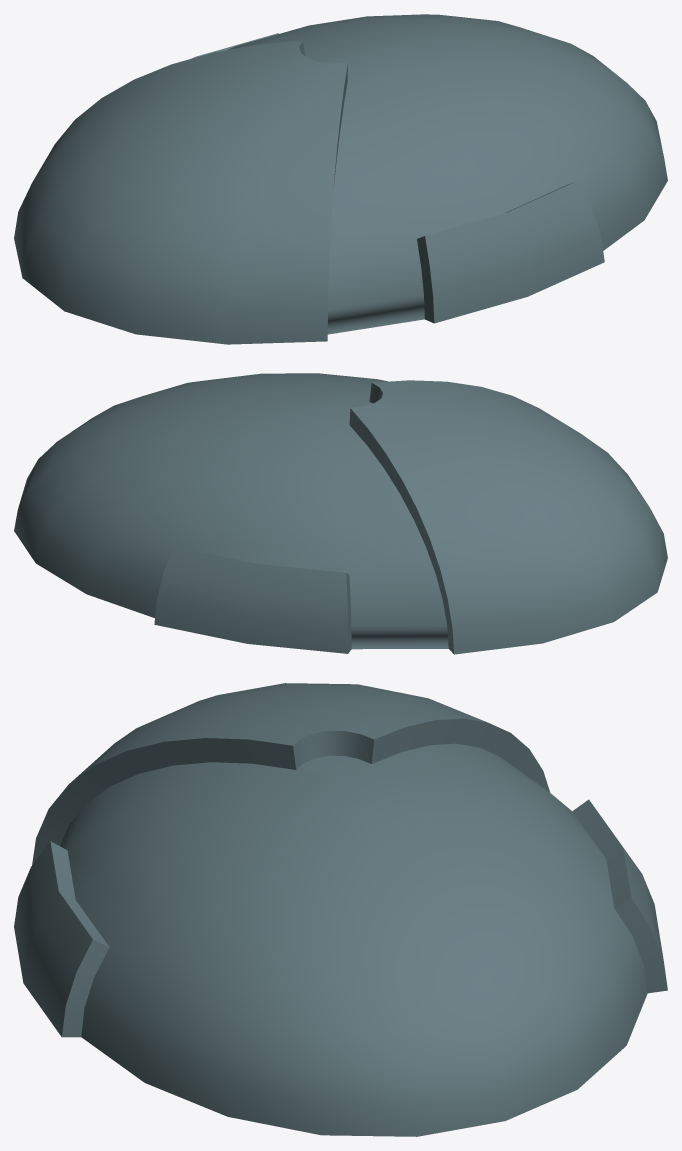
File: mouse.fbx
The picture shows the model from 3 angles, top to bottom: view 1: azimuth 30°, elevation 25°; view 2: azimuth 150°, elevation 25°; view 3: azimuth 270°, elevation 25°; orthographic projection. The views are drawn at different scales.
Visible parts, largest first — view 1: mouse; view 2: mouse; view 3: mouse.
Boxes of the visible parts, x1,y1,x2,y2 form: mouse: (14, 14, 667, 344); mouse: (14, 373, 667, 654); mouse: (14, 683, 667, 1136).
Bounding box in the file's own units: 14.13 × 3.66 × 10.78.
